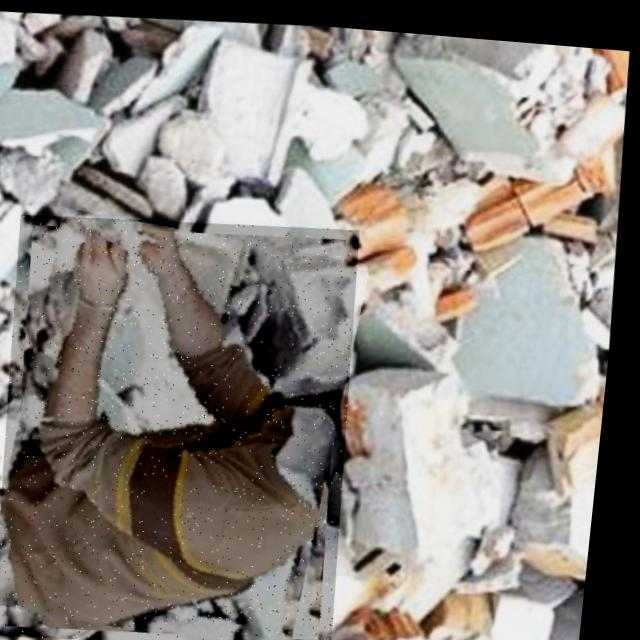Person in Rubble: (0, 201, 377, 640)
